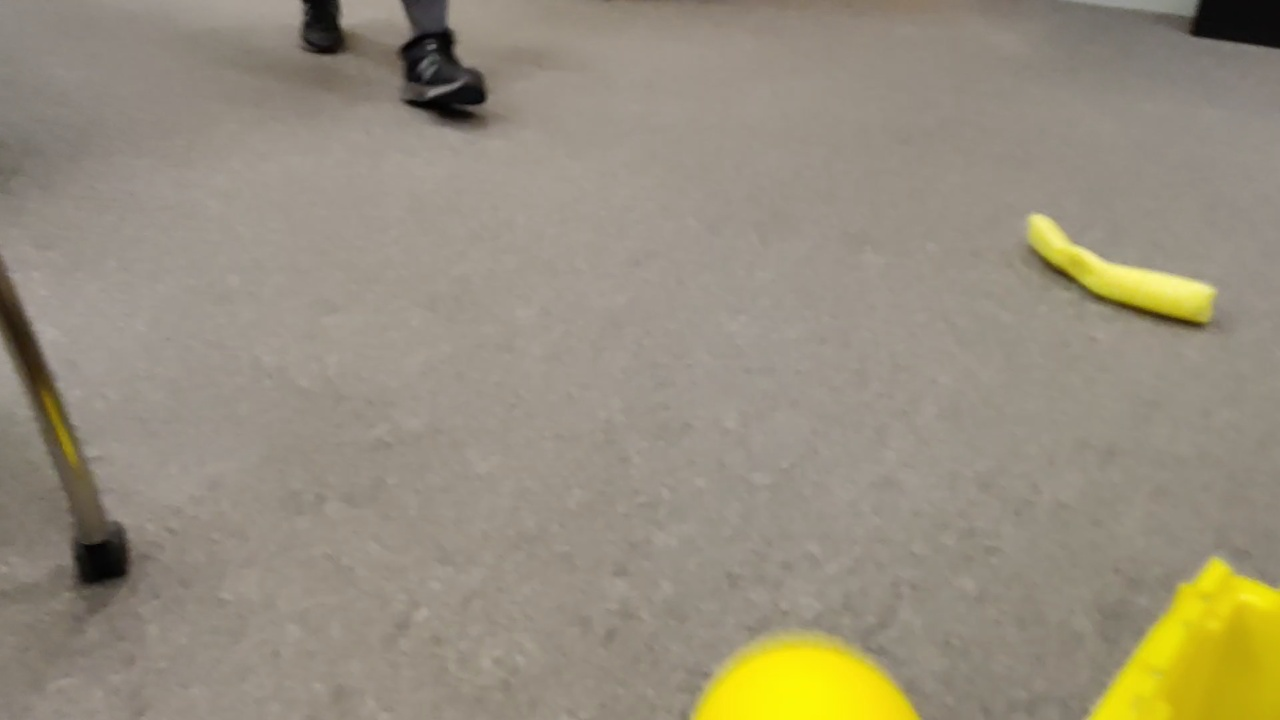Ball: (692, 632, 919, 720)
